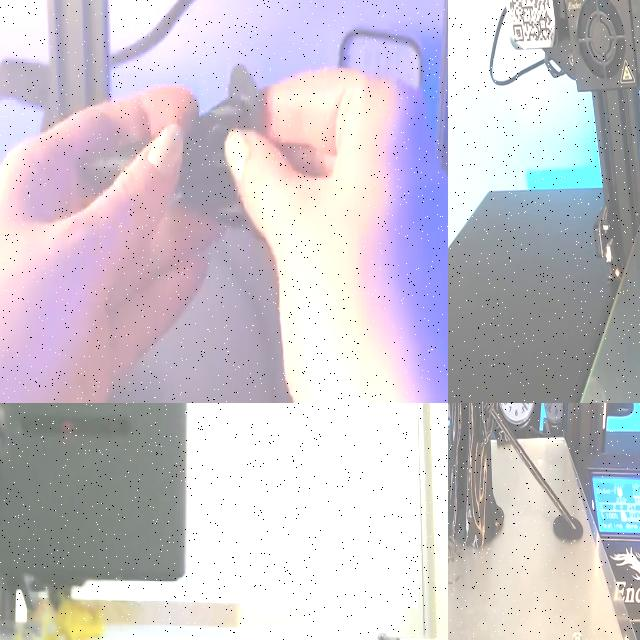spaghetti: (11, 587, 105, 640)
